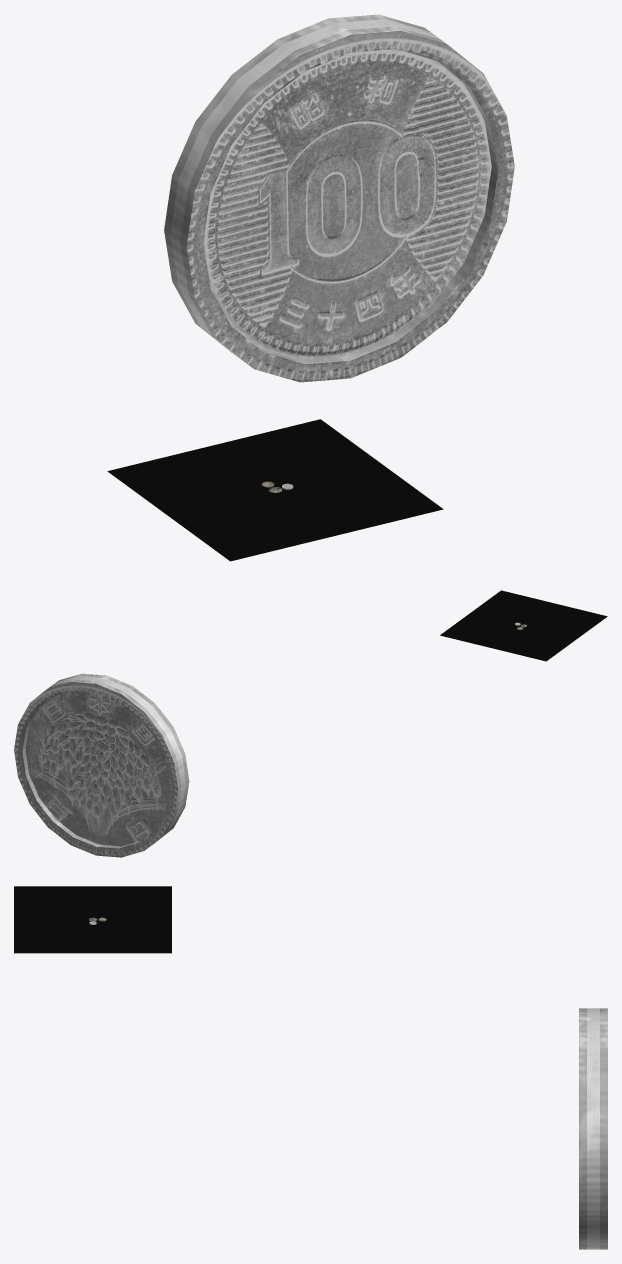
The model's file is coin-3.glb.
The picture shows the model from 3 angles, top to bottom: view 1: azimuth 30°, elevation 25°; view 2: azimuth 150°, elevation 25°; view 3: azimuth 270°, elevation 25°; orthographic projection. The views are drawn at different scales.
Parts seen in each view (by area): view 1: Object_2.001, Plane; view 2: Object_2.001, Plane; view 3: Plane, Object_2.001.
Boxes of the visible parts, <box> form: Object_2.001: <box>164,14,514,382</box>; Plane: <box>107,419,443,561</box>; Object_2.001: <box>14,673,189,857</box>; Plane: <box>440,590,607,661</box>; Plane: <box>14,886,171,953</box>; Object_2.001: <box>579,1008,607,1249</box>.
Bounding box in the file's own units: 38.23 × 17.31 × 42.29.
Materials: 5 (4 with a texture image).
